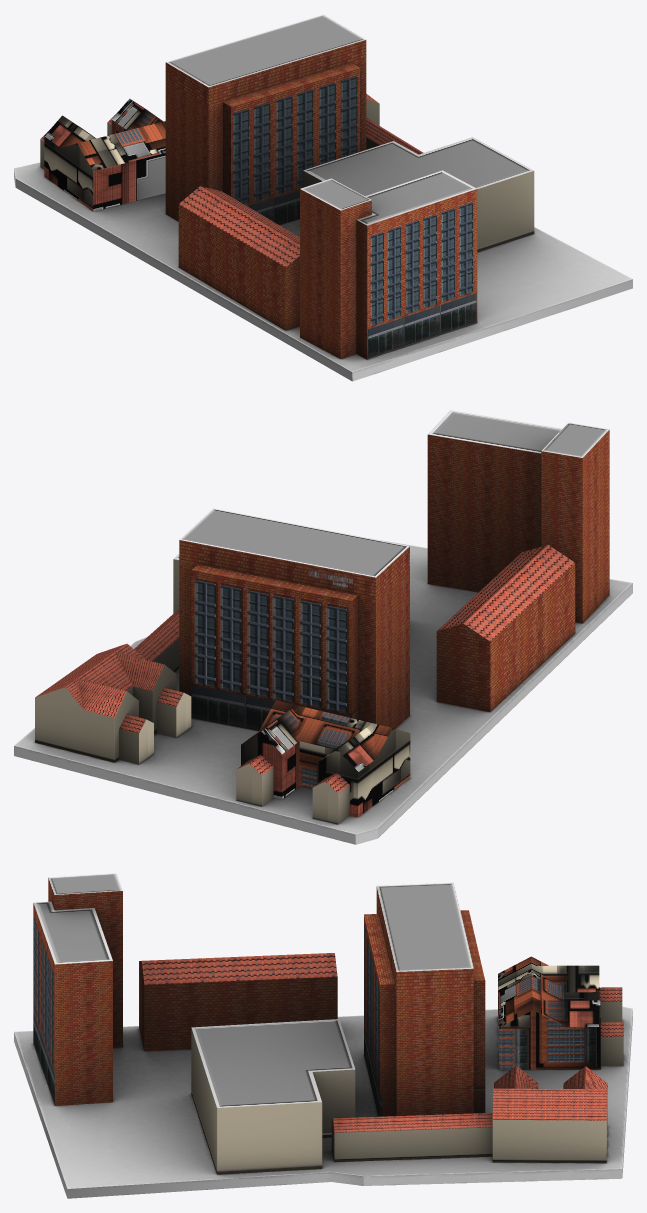
Rendered from hjcygyy.gltf.
3 views of the same model, one above another, from view 1: azimuth 30°, elevation 25°; view 2: azimuth 150°, elevation 25°; view 3: azimuth 270°, elevation 25° (orthographic). The views are drawn at different scales.
Visible parts, largest first — view 1: pCube5, pCube2, pCube1, pCube3, pCube4, pCube7, pCube6; view 2: pCube5, pCube2, pCube1, pCube3, pCube7, pCube14, pCube8, pCube13, pCube6, pCube15, pCube16; view 3: pCube1, pCube5, pCube4, pCube2, pCube3, pCube7, pCube14, pCube6, pCube8, pCube13.
Boxes of the visible parts, bbox=[...] form: pCube5: bbox=[165, 14, 366, 225]; pCube2: bbox=[300, 170, 477, 359]; pCube1: bbox=[14, 162, 632, 381]; pCube3: bbox=[178, 186, 299, 330]; pCube4: bbox=[303, 137, 534, 252]; pCube7: bbox=[44, 98, 165, 211]; pCube6: bbox=[366, 118, 423, 154]; pCube5: bbox=[179, 508, 409, 730]; pCube2: bbox=[427, 410, 609, 623]; pCube1: bbox=[14, 538, 632, 844]; pCube3: bbox=[436, 545, 575, 712]; pCube7: bbox=[241, 700, 410, 817]; pCube14: bbox=[35, 643, 176, 762]; pCube8: bbox=[236, 754, 273, 806]; pCube13: bbox=[312, 772, 349, 824]; pCube6: bbox=[134, 609, 179, 672]; pCube15: bbox=[119, 714, 153, 764]; pCube16: bbox=[157, 687, 191, 737]; pCube1: bbox=[14, 1006, 632, 1198]; pCube5: bbox=[364, 882, 485, 1116]; pCube4: bbox=[191, 1019, 355, 1174]; pCube2: bbox=[33, 873, 122, 1105]; pCube3: bbox=[139, 953, 337, 1051]; pCube7: bbox=[498, 956, 600, 1069]; pCube14: bbox=[492, 1066, 607, 1163]; pCube6: bbox=[331, 1113, 492, 1162]; pCube8: bbox=[600, 1022, 623, 1066]; pCube13: bbox=[599, 987, 622, 1022].
Size of the model in its own units: 10.59 by 4.54 by 14.97.
Materials: 1 (1 with a texture image).
